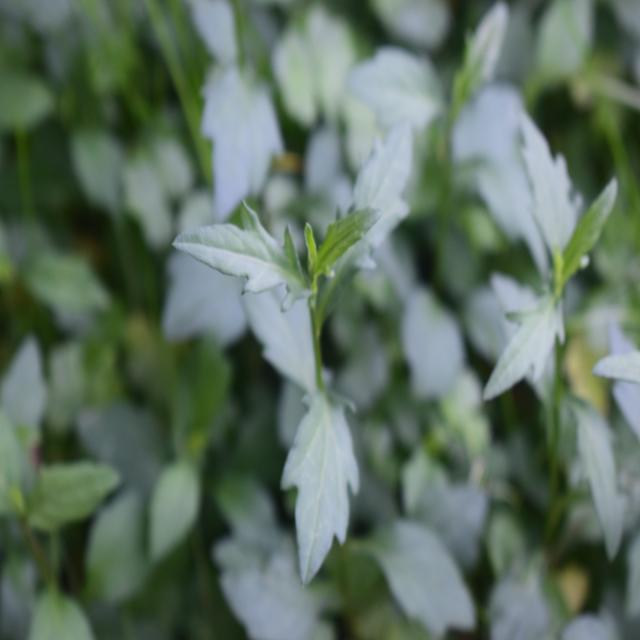Indian aster: (196, 125, 487, 612)
